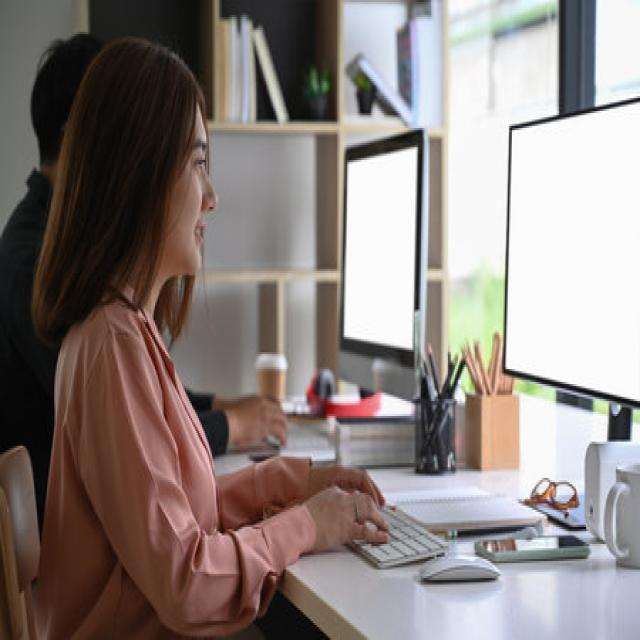desktop-person: (37, 25, 640, 640)
